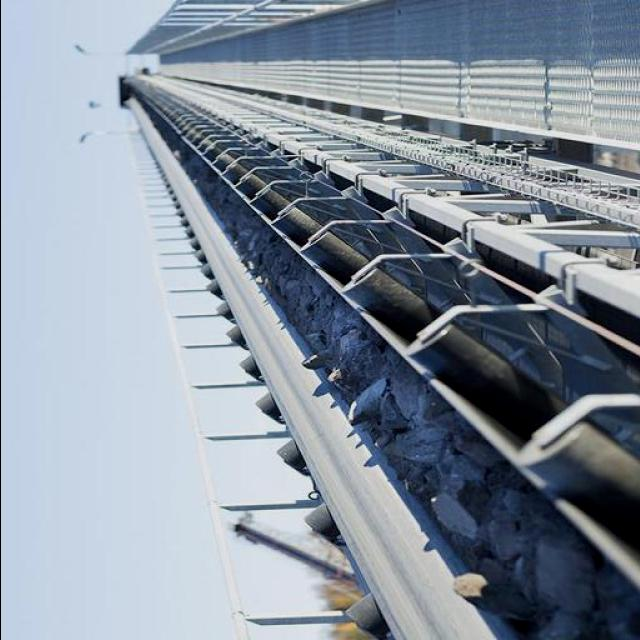conveyor: (127, 89, 640, 640)
